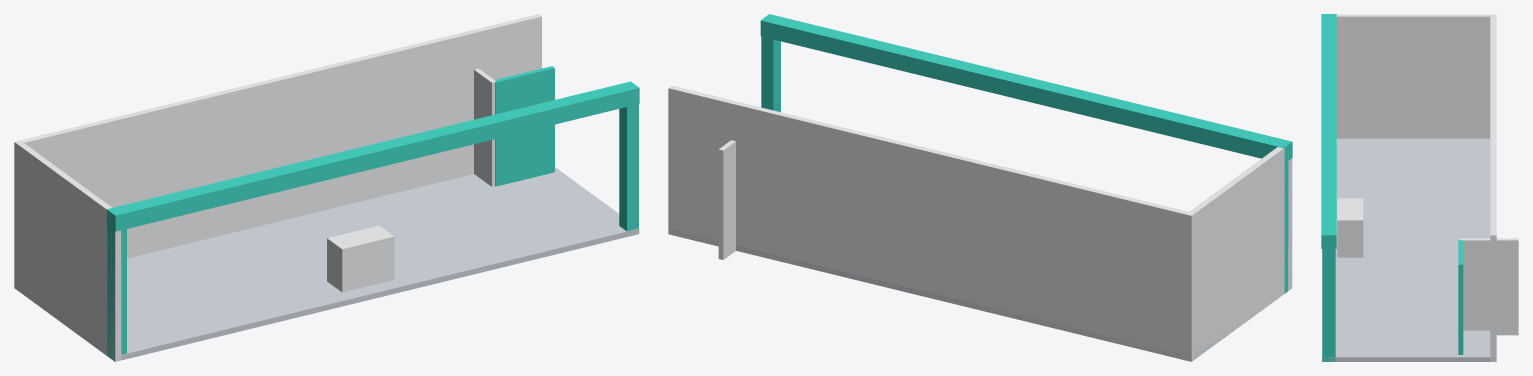
3 renders of one model, left to right at view 1: azimuth 30°, elevation 25°; view 2: azimuth 150°, elevation 25°; view 3: azimuth 270°, elevation 25°, orthographic. The views are drawn at different scales.
Parts seen in each view (by area): view 1: Exhibition Booth Concept; view 2: Exhibition Booth Concept; view 3: Exhibition Booth Concept.
Boxes of the visible parts, <box> form: Exhibition Booth Concept: <box>14,14,639,361</box>; Exhibition Booth Concept: <box>668,14,1292,361</box>; Exhibition Booth Concept: <box>1321,14,1518,361</box>.
Size of the model in its own units: 12 by 3.2 by 4.52.
